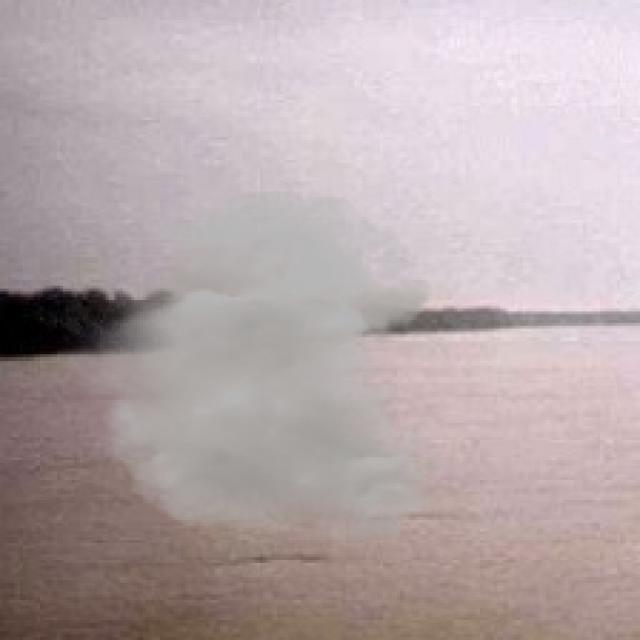Smoke: (51, 191, 443, 546)
